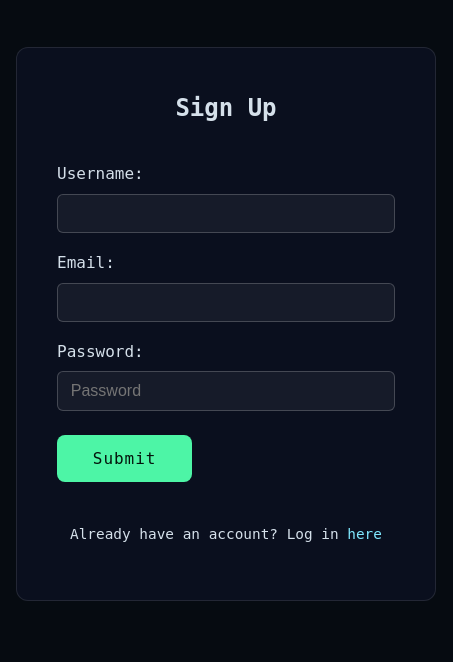
it: Signup Page › shows error when password is too short
The image size is (453, 662).
Step 1. Type "test@email.com" into the field labelled "Email:" → x=226, y=302, box [57,283,395,322]
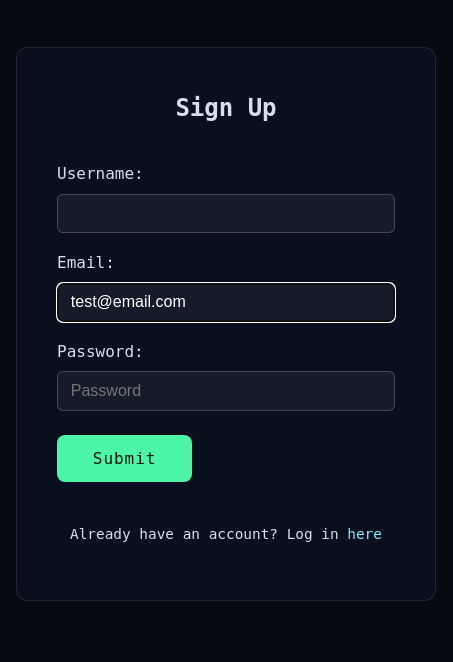
Step 2. Type "123!" into the password field labelled "Password:" → x=226, y=391, box [57,371,395,411]
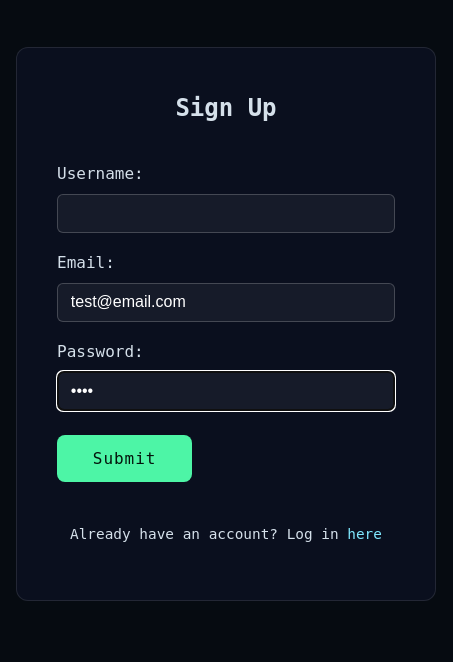
Step 3. Type "testuser" into the field labelled "Username:" → x=226, y=214, box [57,194,395,233]
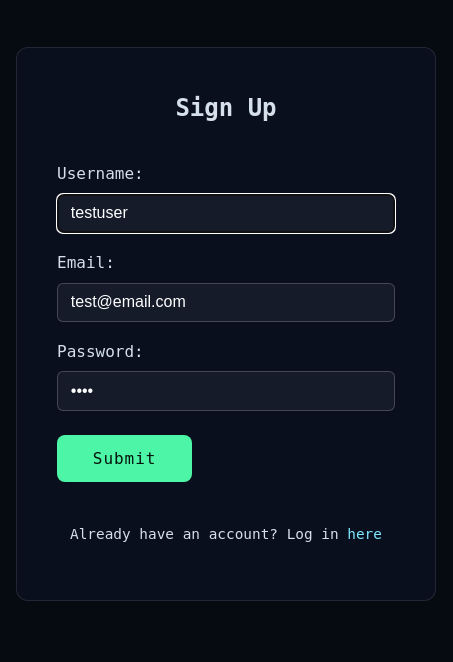
Step 4. Click the button → x=125, y=458, box [57,435,192,482]
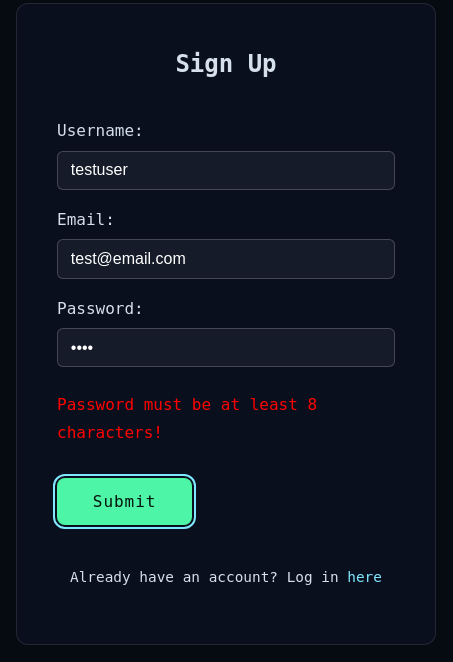
Result: the text "Password must be at least 8 characters!" is shown at [57,395,317,442]
